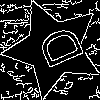D: (28, 23, 85, 75)
